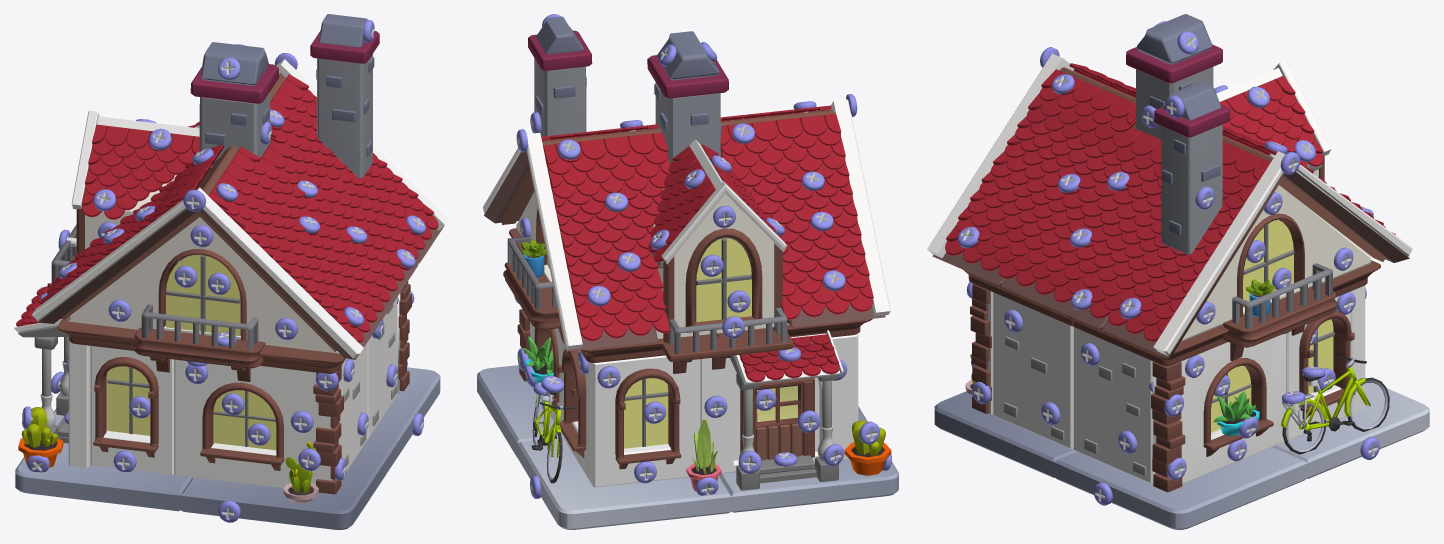
The model's file is Level_House_03.fbx.
3 views of the same model, side by side, from view 1: azimuth 30°, elevation 25°; view 2: azimuth 150°, elevation 25°; view 3: azimuth 270°, elevation 25° (orthographic). The views are drawn at different scales.
Parts seen in each view (by area): view 1: House_03_47, House_03_48, House_03_57, House_03_55, House_03_36, House_03_21, House_03_98, House_03_81, House_03_24, House_03_84, House_03_12, House_03_34 (+40 smaller); view 2: House_03_70, House_03_32, House_03_58, House_03_56, House_03_7, House_03_52, House_03_20, House_03_41, House_03_21, House_03_88, House_03_15, House_03_89 (+43 smaller); view 3: House_03_55, House_03_89, House_03_75, House_03_81, House_03_94, House_03_93, House_03_98, House_03_58, House_03_67, House_03_102, House_03_88, House_03_84 (+38 smaller).
Boxes of the visible parts, x1,y1,x2,y2 form: House_03_47: [174, 359, 332, 487]; House_03_48: [67, 217, 339, 353]; House_03_57: [180, 439, 396, 529]; House_03_55: [208, 146, 330, 278]; House_03_36: [81, 124, 199, 219]; House_03_21: [15, 408, 191, 511]; House_03_98: [316, 54, 374, 178]; House_03_81: [322, 195, 418, 312]; House_03_24: [32, 187, 363, 358]; House_03_84: [270, 74, 378, 206]; House_03_12: [90, 346, 174, 474]; House_03_34: [166, 254, 240, 335]; House_03_70: [543, 132, 670, 248]; House_03_32: [720, 114, 857, 224]; House_03_58: [517, 437, 731, 529]; House_03_56: [562, 230, 670, 341]; House_03_7: [770, 209, 873, 319]; House_03_52: [589, 355, 700, 487]; House_03_20: [700, 333, 858, 473]; House_03_41: [653, 188, 782, 343]; House_03_21: [719, 406, 898, 512]; House_03_88: [483, 132, 582, 349]; House_03_15: [740, 378, 814, 460]; House_03_89: [477, 365, 562, 457]; House_03_55: [991, 69, 1135, 209]; House_03_89: [1053, 447, 1307, 529]; House_03_75: [993, 292, 1073, 448]; House_03_81: [998, 199, 1145, 318]; House_03_94: [1073, 327, 1153, 483]; House_03_93: [1153, 333, 1286, 483]; House_03_98: [1161, 124, 1222, 254]; House_03_58: [1272, 382, 1429, 478]; House_03_67: [945, 171, 1049, 271]; House_03_102: [1104, 238, 1207, 341]; House_03_88: [1153, 151, 1412, 355]; House_03_84: [1118, 141, 1270, 264].
Bounding box in the file's own units: 6.98 × 6.31 × 7.03.
